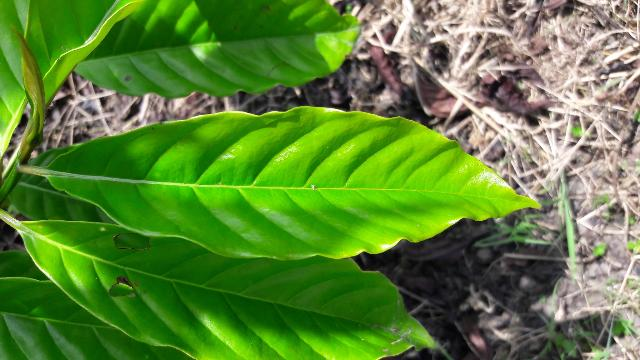healthy: (51, 107, 539, 257)
